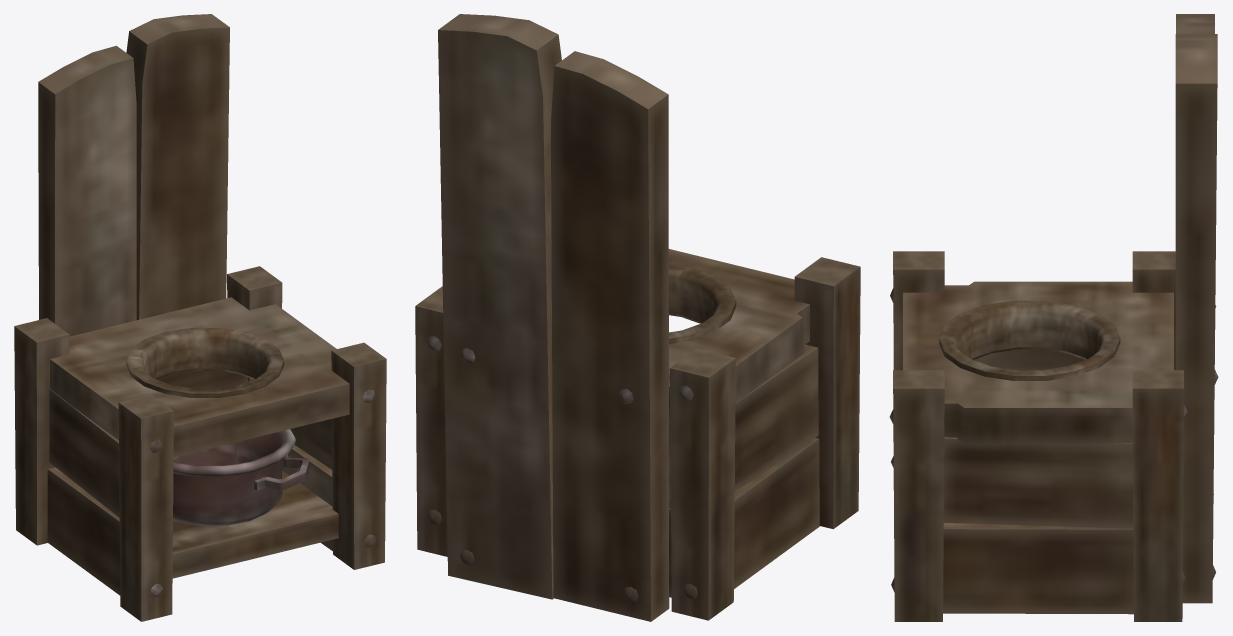
Rendered from comfort2_t1_bathroomtoilet.glb.
3 renders of one model, left to right at view 1: azimuth 30°, elevation 25°; view 2: azimuth 150°, elevation 25°; view 3: azimuth 270°, elevation 25°, orthographic. The views are drawn at different scales.
Visible parts, largest first — view 1: global_props_roughwood_bathroom_toilet_01_a; view 2: global_props_roughwood_bathroom_toilet_01_a; view 3: global_props_roughwood_bathroom_toilet_01_a.
Boxes of the visible parts, left/top/right/bottom form: global_props_roughwood_bathroom_toilet_01_a: left=14, top=14, right=386, bottom=621; global_props_roughwood_bathroom_toilet_01_a: left=415, top=14, right=860, bottom=621; global_props_roughwood_bathroom_toilet_01_a: left=889, top=14, right=1218, bottom=621.
Size of the model in its own units: 0.7503 by 1.36 by 0.7592.
2 materials, 2 textured.
